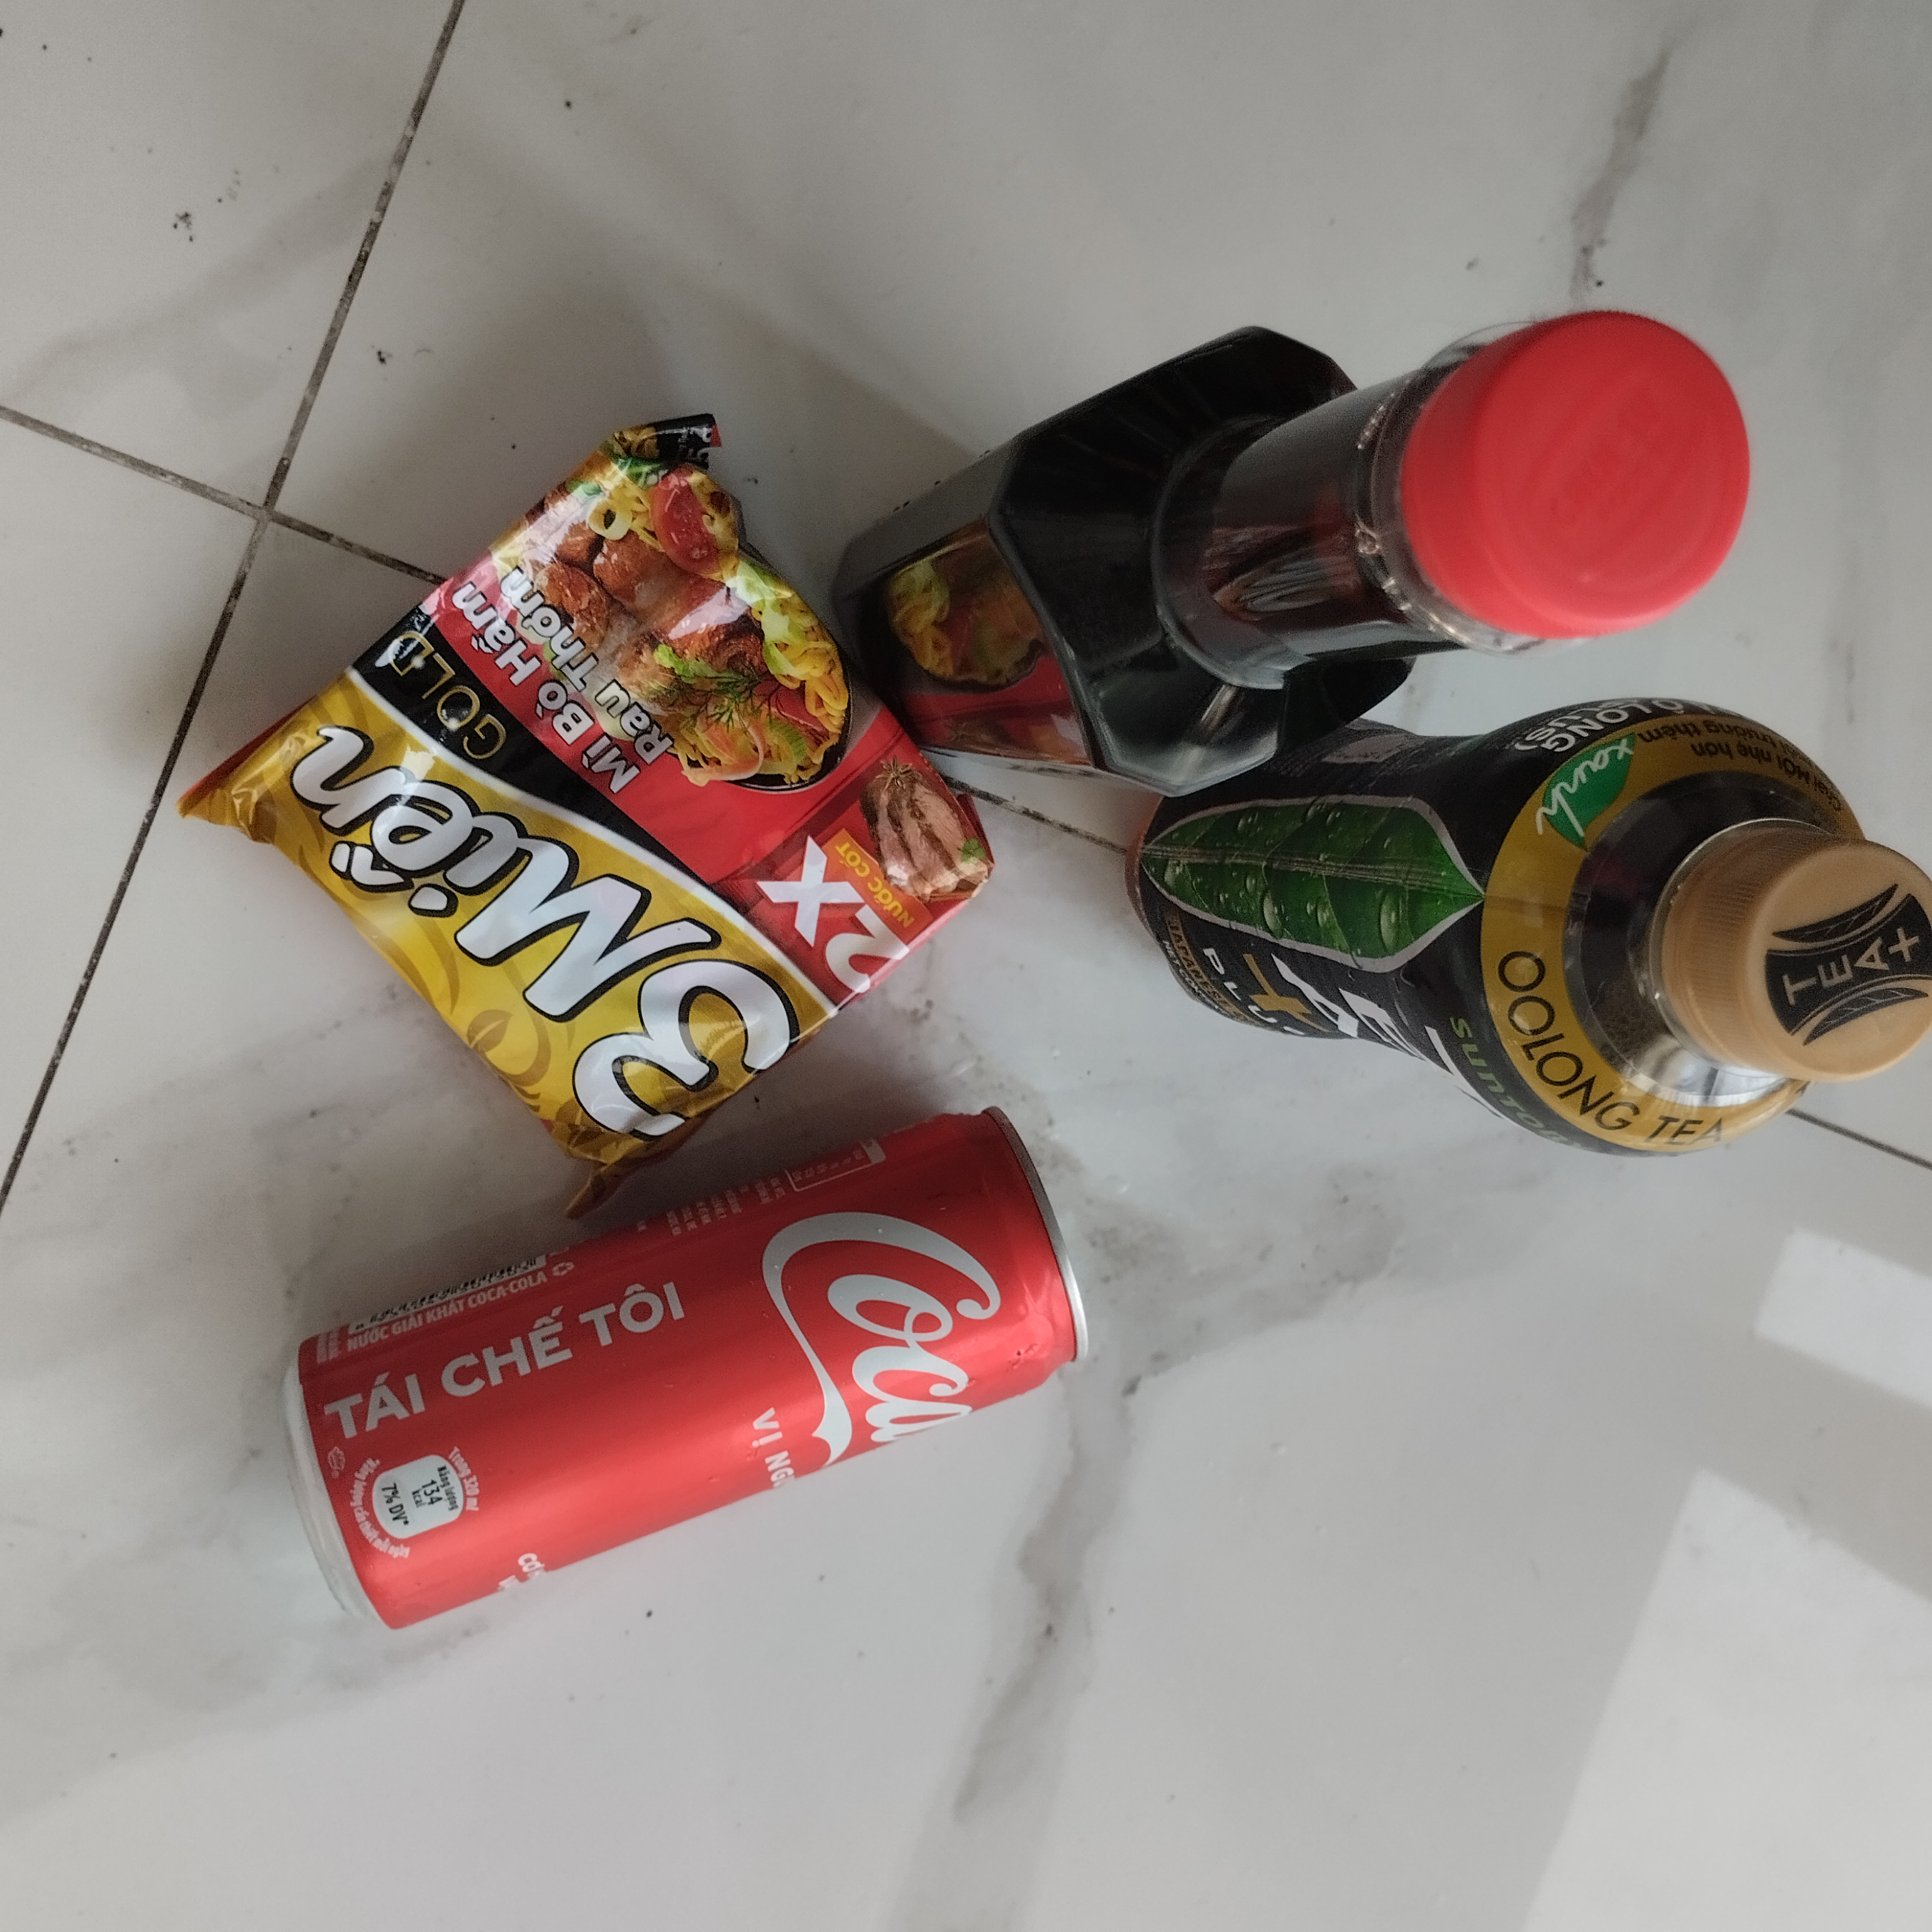3mien: (172, 412, 993, 1203)
Coca: (283, 1095, 1088, 1691)
Namngu: (801, 304, 1744, 801)
Olong: (1122, 688, 1932, 1194)
